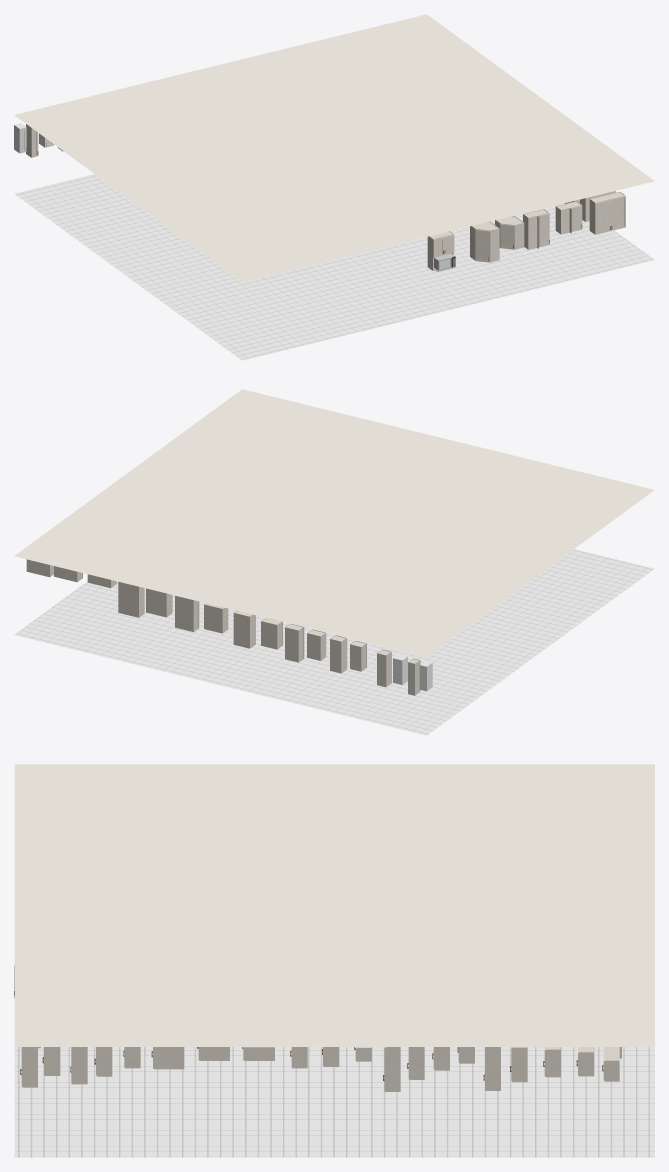
File: Wall_Cab.dae
The picture shows the model from 3 angles, top to bottom: view 1: azimuth 30°, elevation 25°; view 2: azimuth 150°, elevation 25°; view 3: azimuth 270°, elevation 25°; orthographic projection. The views are drawn at different scales.
Parts seen in each view (by area): view 1: Ceiling, Floor; view 2: Ceiling, Floor, W2739, W2439, W2139L, W2730; view 3: Ceiling, Floor, W362124, W3339, W3039, W3939, W3639.
Boxes of the visible parts, <box> form: Ceiling: <box>14,14,654,281</box>; Floor: <box>14,174,654,360</box>; Ceiling: <box>14,389,654,656</box>; Floor: <box>14,549,654,735</box>; W2739: <box>118,582,138,617</box>; W2439: <box>175,596,192,631</box>; W2139L: <box>234,612,249,648</box>; W2730: <box>146,588,166,616</box>; Ceiling: <box>14,764,654,1046</box>; Floor: <box>14,1047,654,1157</box>; W362124: <box>155,1047,184,1069</box>; W3339: <box>386,1047,400,1091</box>; W3039: <box>486,1047,500,1090</box>; W3939: <box>23,1047,37,1087</box>; W3639: <box>73,1047,87,1084</box>.
Size of the model in its own units: 526 by 504 by 96.
14 materials, 4 textured.
